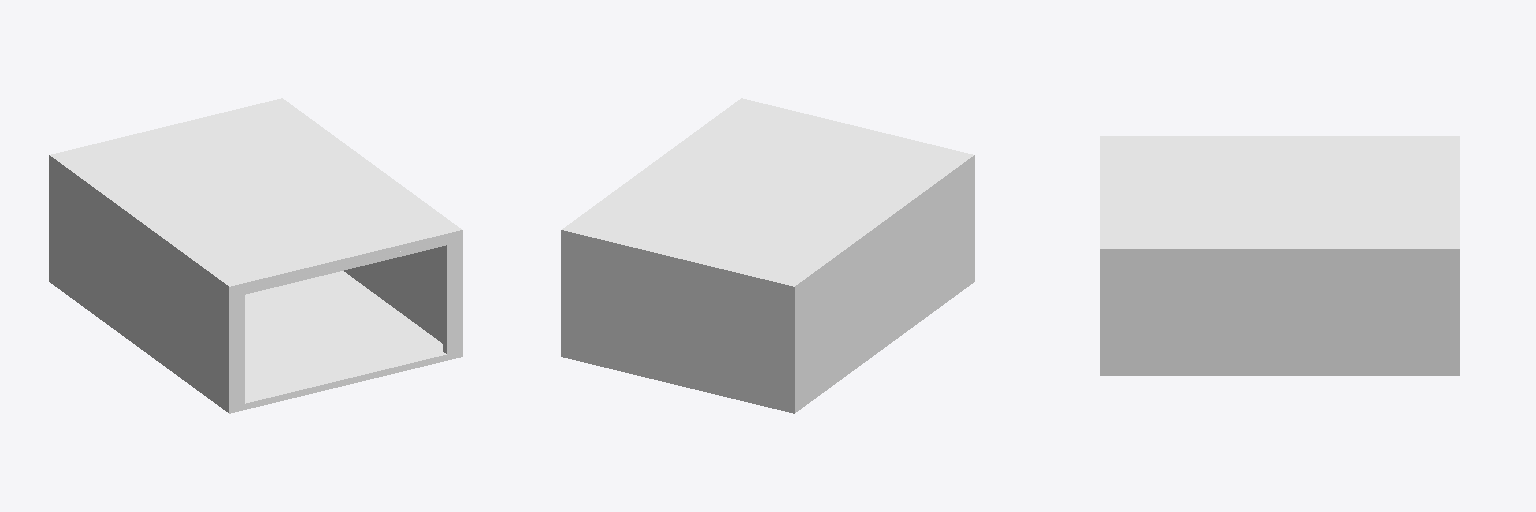
The picture shows the model from 3 angles: view 1: azimuth 30°, elevation 25°; view 2: azimuth 150°, elevation 25°; view 3: azimuth 270°, elevation 25°; orthographic projection.
Visible parts, largest first — view 1: object_12, object_15, object_13, object_16, object_6, object_1, object_3, object_14; view 2: object_12, object_14, object_15, object_13; view 3: object_12, object_16, object_13, object_14.
Part boxes in pixels (x1,y1,x2,y2): object_12: (49,98,462,292); object_15: (54,165,236,407); object_13: (49,271,462,413); object_16: (344,236,462,351); object_6: (443,244,454,353); object_1: (245,240,446,294); object_3: (237,295,244,405); object_14: (49,162,53,278); object_12: (561,98,974,292); object_14: (561,236,798,407); object_15: (799,162,974,403); object_13: (561,276,974,413); object_12: (1100,136,1459,255); object_16: (1100,256,1450,369); object_13: (1100,370,1459,375); object_14: (1451,256,1459,369).
Bounding box in the file's own units: 7.97 × 4.15 × 10.66.